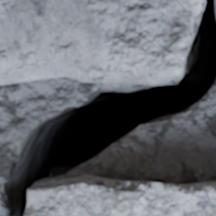brick: (0, 0, 204, 85), (25, 176, 215, 215)
crack: (1, 0, 215, 215)
